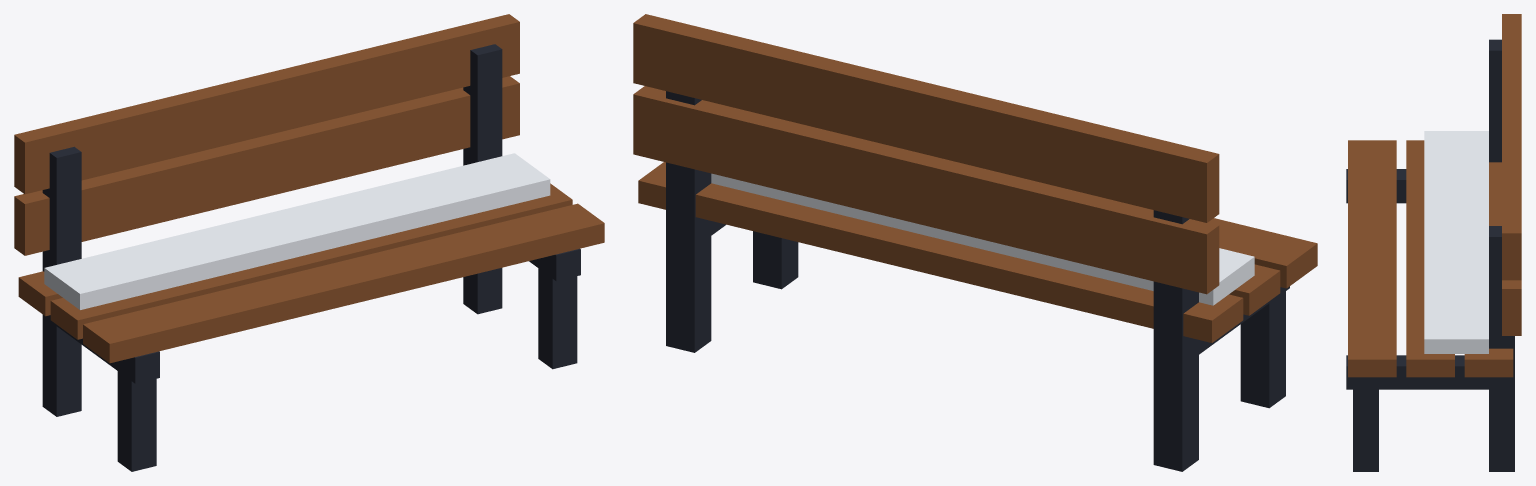
The model's file is Bench.fbx.
The picture shows the model from 3 angles, left to right: view 1: azimuth 30°, elevation 25°; view 2: azimuth 150°, elevation 25°; view 3: azimuth 270°, elevation 25°; orthographic projection. The views are drawn at different scales.
Visible parts, largest first — view 1: Bench_Wood, Bench_Snow, Bench_Iron; view 2: Bench_Wood, Bench_Iron, Bench_Snow; view 3: Bench_Wood, Bench_Snow, Bench_Iron.
Boxes of the visible parts, x1,y1,x2,y2 form: Bench_Wood: [14, 14, 604, 363]; Bench_Snow: [44, 153, 550, 309]; Bench_Iron: [42, 44, 580, 471]; Bench_Wood: [633, 14, 1317, 342]; Bench_Iron: [666, 91, 1289, 471]; Bench_Snow: [711, 173, 1254, 305]; Bench_Wood: [1348, 14, 1521, 377]; Bench_Snow: [1424, 131, 1488, 353]; Bench_Iron: [1346, 39, 1514, 471].
Bounding box in the file's own units: 800 × 425 × 270.
